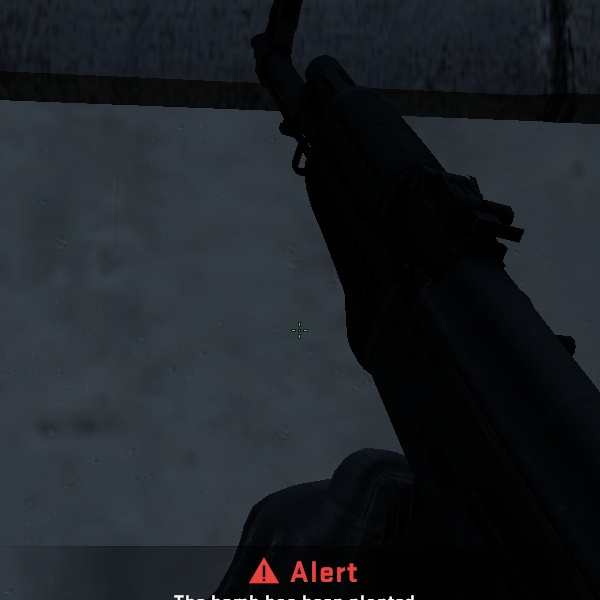ct_body: (92, 16, 580, 600)
